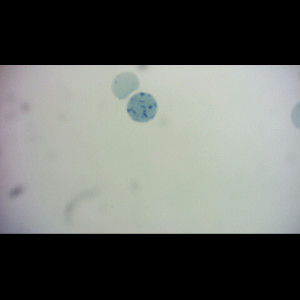aggregate reticulocyte: (125, 90, 159, 123)
punctate reticulocyte: (111, 71, 141, 101)
